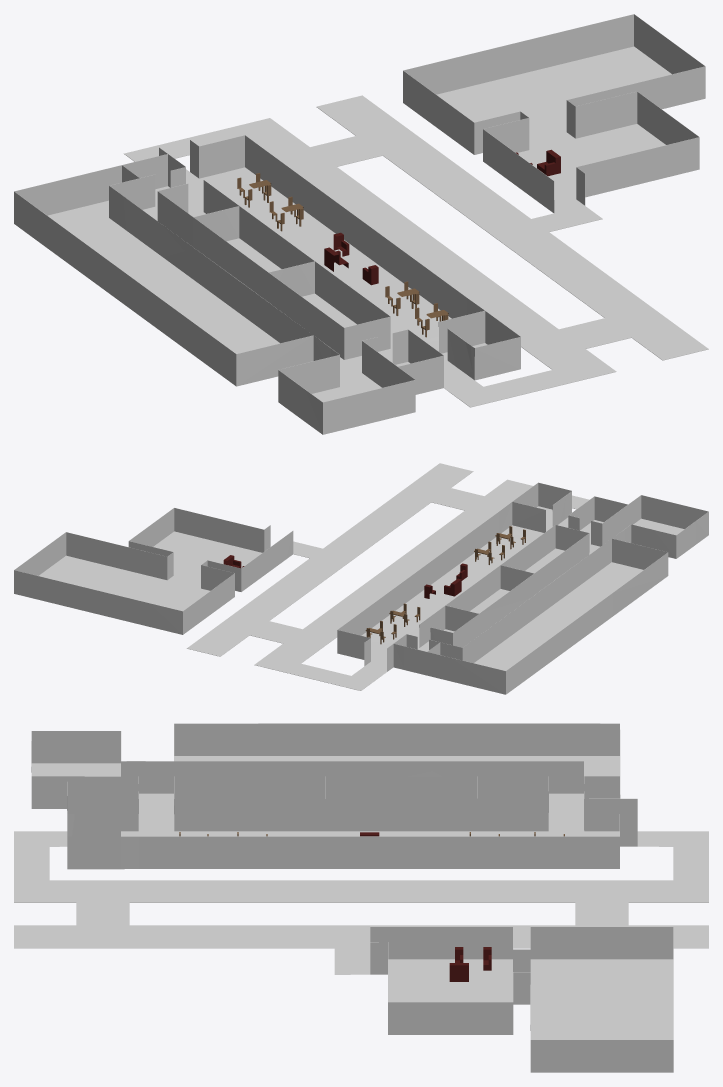
Rendered from Devon_05.dae.
3 views of the same model, one above another, from view 1: azimuth 30°, elevation 25°; view 2: azimuth 150°, elevation 25°; view 3: azimuth 270°, elevation 25° (orthographic). The views are drawn at different scales.
Visible parts, largest first — view 1: Map; view 2: Map; view 3: Map.
Part boxes in pixels (<box>): Map: <box>14,14,708,434</box>; Map: <box>14,463,708,694</box>; Map: <box>14,723,708,1072</box>.
Bounding box in the file's own units: 42.03 × 39 × 2.02.
